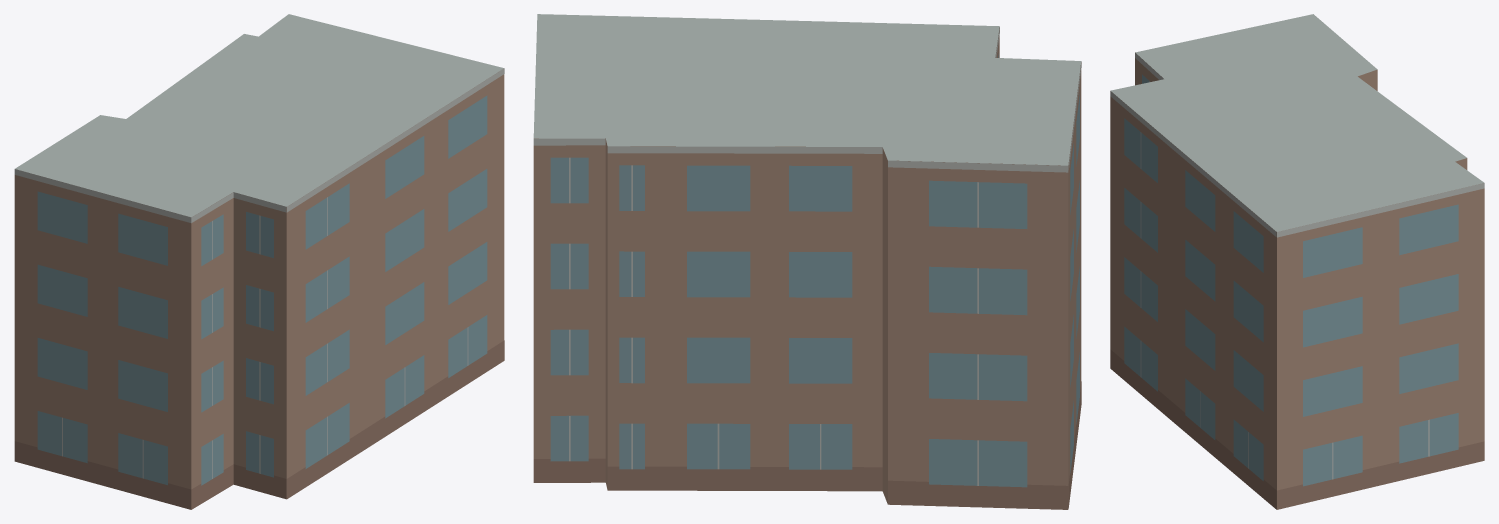
File: survey-upis-32756730.glb
3 views of the same model, side by side, from view 1: azimuth 30°, elevation 25°; view 2: azimuth 150°, elevation 25°; view 3: azimuth 270°, elevation 25° (orthographic). The views are drawn at different scales.
Visible parts, largest first — view 1: survey-upis-32756730.tmp; view 2: survey-upis-32756730.tmp; view 3: survey-upis-32756730.tmp.
Part boxes in pixels (bbox=[...]): survey-upis-32756730.tmp: bbox=[14, 14, 504, 509]; survey-upis-32756730.tmp: bbox=[533, 14, 1081, 509]; survey-upis-32756730.tmp: bbox=[1110, 14, 1484, 509].
Size of the model in its own units: 20.55 by 12.2 by 14.91.
